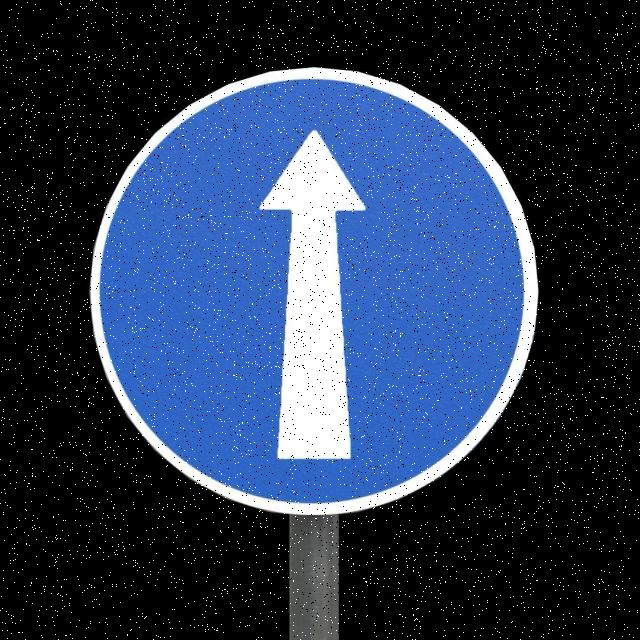compulsory_ahead: (96, 78, 544, 517)
